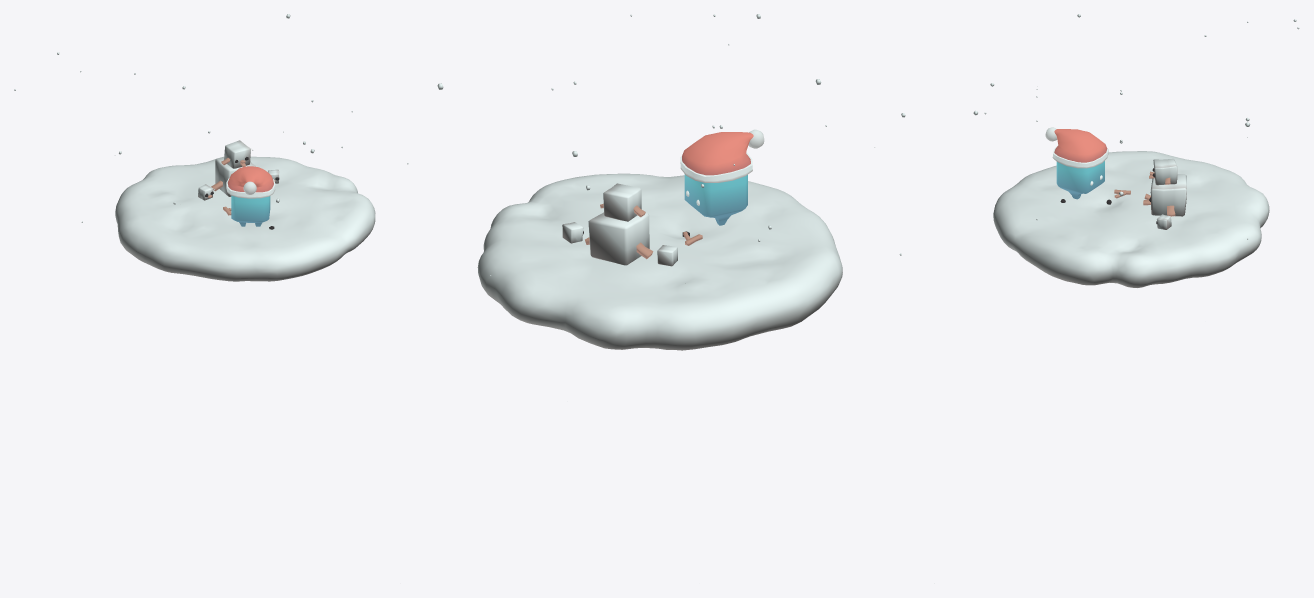
File: christmas.9a1c75a2.glb
The picture shows the model from 3 angles, left to right: view 1: azimuth 30°, elevation 25°; view 2: azimuth 150°, elevation 25°; view 3: azimuth 270°, elevation 25°; orthographic projection. The views are drawn at different scales.
Visible parts, largest first — view 1: 3dmSnow_3dmSnowball.001_28, Cube.003_1, Cube.006_9; view 2: 3dmSnow_3dmSnowball.001_28, Cube.003_1, Cube_2, Cube.006_9; view 3: 3dmSnow_3dmSnowball.001_28, Cube.003_1, Cube_2, Cube.006_9.
Boxes of the visible parts, x1,y1,x2,y2 form: 3dmSnow_3dmSnowball.001_28: (115, 156, 375, 281); Cube.003_1: (226, 166, 275, 226); Cube.006_9: (224, 140, 250, 168); 3dmSnow_3dmSnowball.001_28: (477, 173, 842, 350); Cube.003_1: (680, 129, 764, 225); Cube_2: (588, 212, 649, 265); Cube.006_9: (603, 183, 641, 221); 3dmSnow_3dmSnowball.001_28: (993, 151, 1269, 287); Cube.003_1: (1045, 127, 1108, 199); Cube_2: (1151, 174, 1186, 216); Cube.006_9: (1153, 158, 1177, 185).
Size of the model in its own units: 10.01 by 15.1 by 10.41.
Materials: 2 (2 with a texture image).
